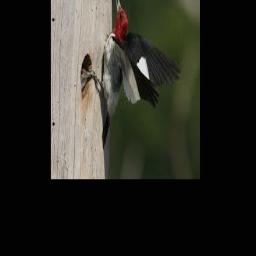Woodpecker: (82, 0, 180, 148)
